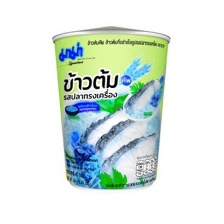paper_cup: (45, 20, 174, 196)
